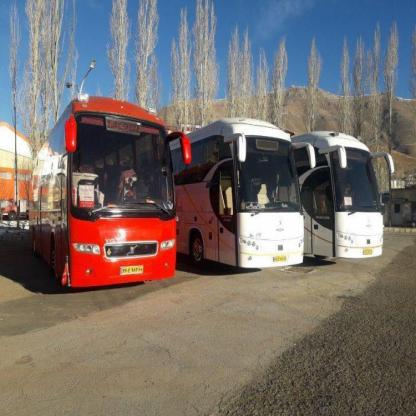Bus: (26, 94, 177, 296), (171, 113, 307, 276), (296, 122, 392, 262)
